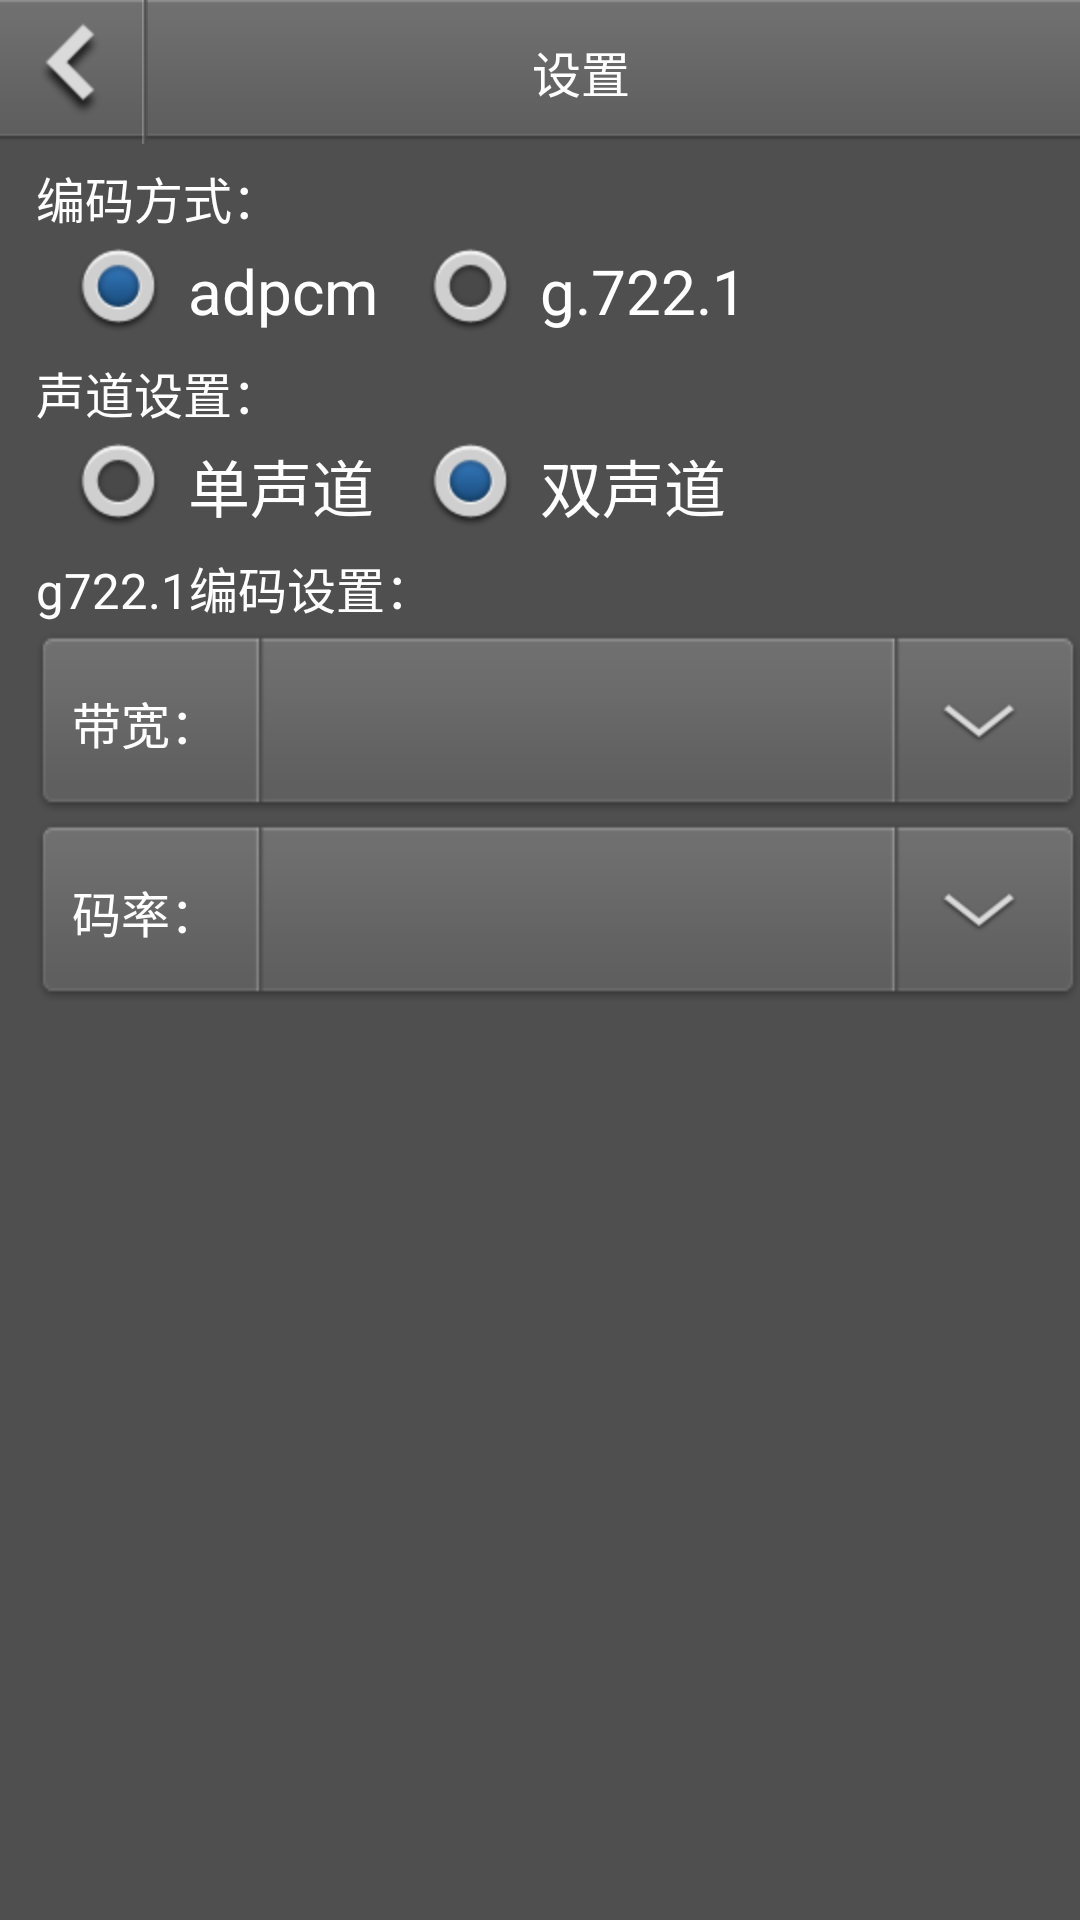

Named icons in this screenshot (1080px×1920px) and their centers, (x=x, y=y):
spinner pull: (x=979, y=722), (x=979, y=911)
